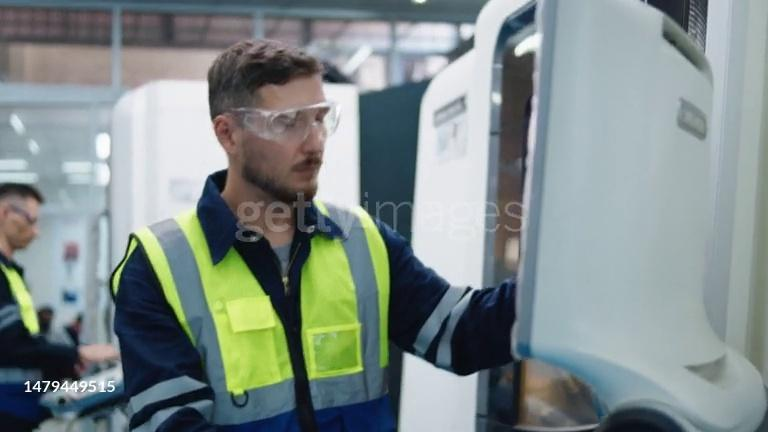person: (107, 39, 518, 432), (1, 182, 114, 425)
